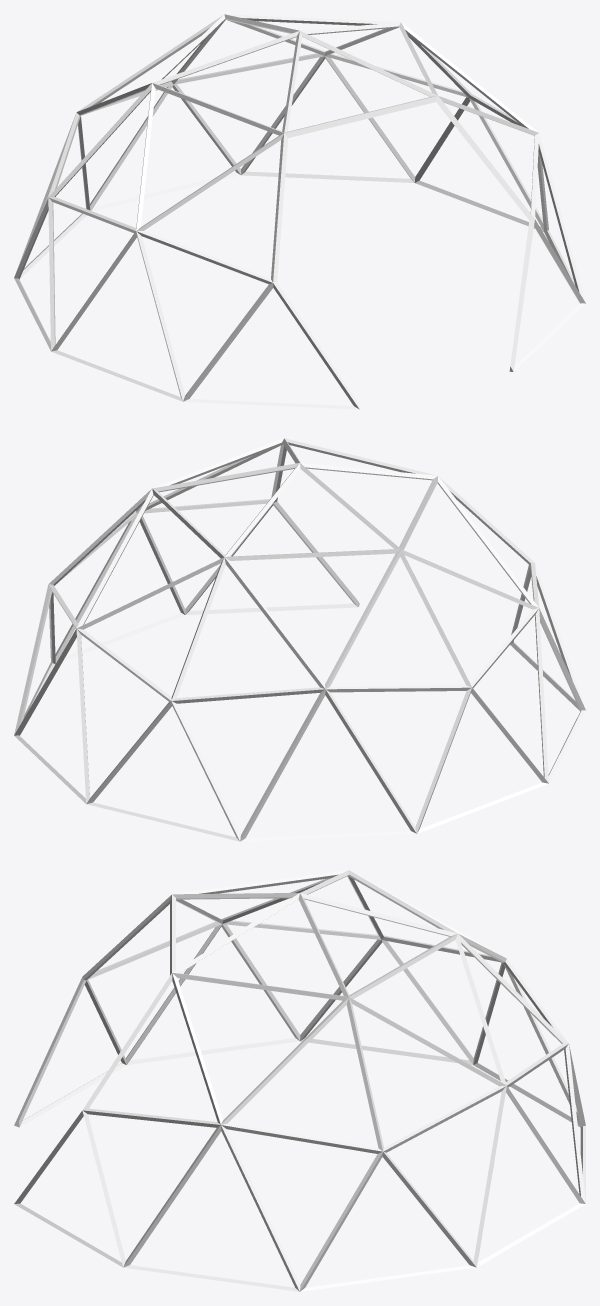
Rendered from Dome_01.glb.
3 renders of one model, top to bottom at view 1: azimuth 30°, elevation 25°; view 2: azimuth 150°, elevation 25°; view 3: azimuth 270°, elevation 25°, orthographic. The views are drawn at different scales.
Parts seen in each view (by area): view 1: Dome_01; view 2: Dome_01; view 3: Dome_01.
Part boxes in pixels (x1,y1,x2,y2): Dome_01: (14, 14, 585, 409); Dome_01: (14, 438, 585, 841); Dome_01: (14, 870, 585, 1291).
Size of what is drawn, in the model's own units: 8.65 by 4.33 by 8.22.
1 material, 1 textured.
